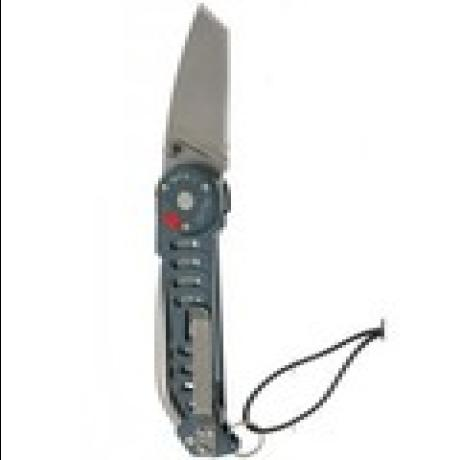weapon: (150, 0, 237, 454)
